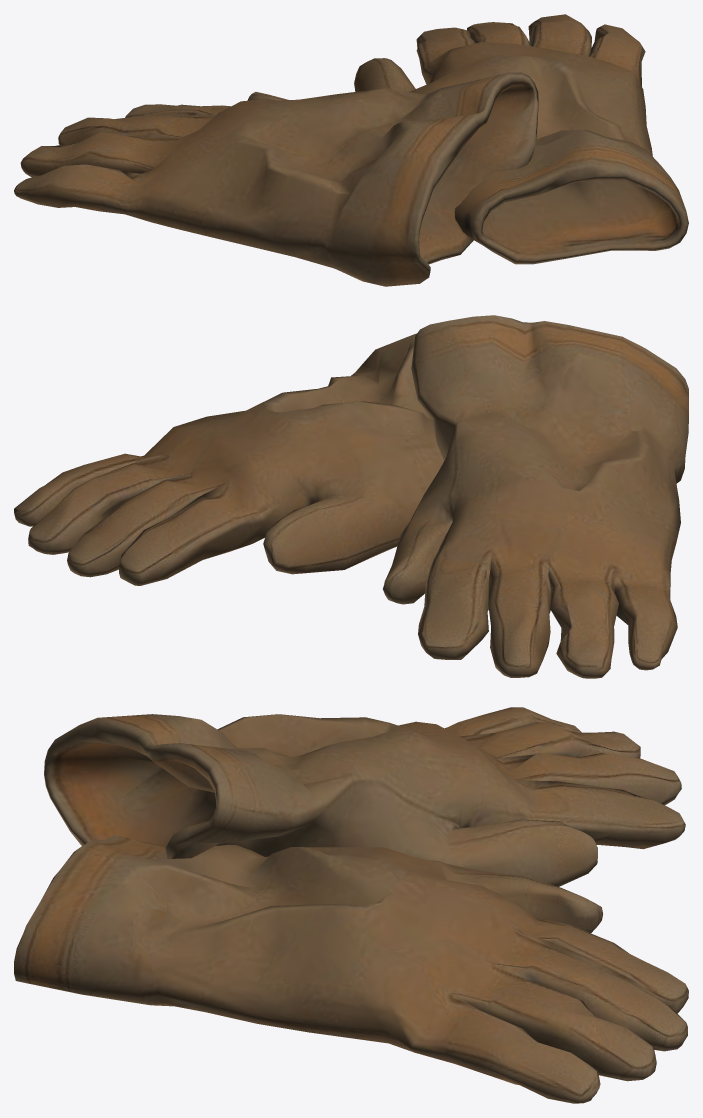
Rendered from office-gear-gloves.glb.
3 renders of one model, top to bottom at view 1: azimuth 30°, elevation 25°; view 2: azimuth 150°, elevation 25°; view 3: azimuth 270°, elevation 25°, orthographic. The views are drawn at different scales.
Visible parts, largest first — view 1: gear-gloves; view 2: gear-gloves; view 3: gear-gloves.
Part boxes in pixels (bbox=[...]): gear-gloves: bbox=[14, 14, 688, 286]; gear-gloves: bbox=[14, 315, 688, 678]; gear-gloves: bbox=[14, 707, 688, 1103].
Size of the model in its own units: 0.26 by 0.0608 by 0.2005.
Materials: 1 (1 with a texture image).
